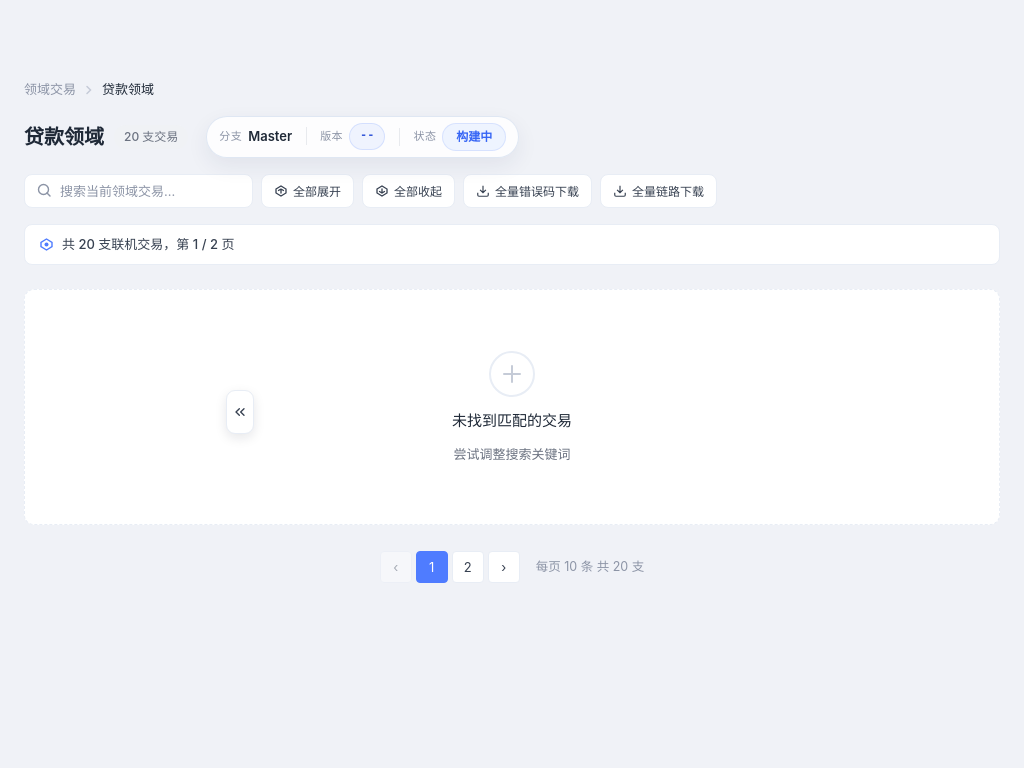
Test case: TransactionAnalysis domain chain export › shows other backend errors in the export dialog
Step 1. Click the button with test id "export-domain-chains" → (658, 190), box [600, 174, 717, 208]
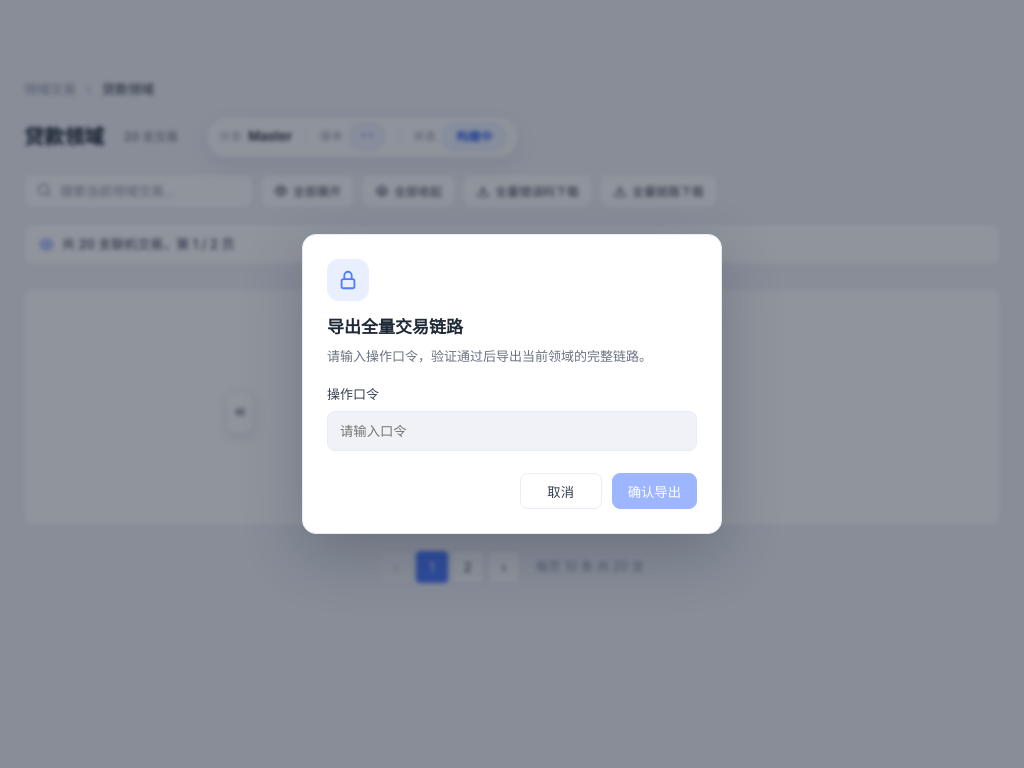
Step 2. Type "secret" into the password field with test id "chain-export-token" → (512, 431), box [327, 411, 697, 451]
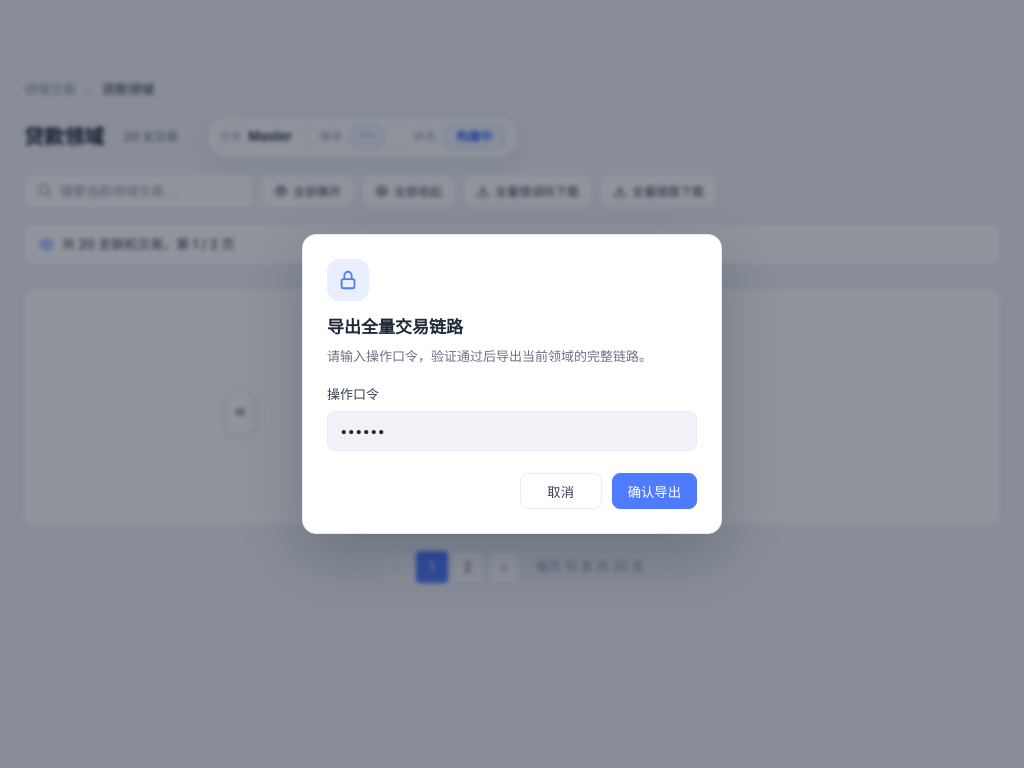
Step 3. Click the button with test id "confirm-chain-export" → (654, 491), box [612, 473, 697, 509]
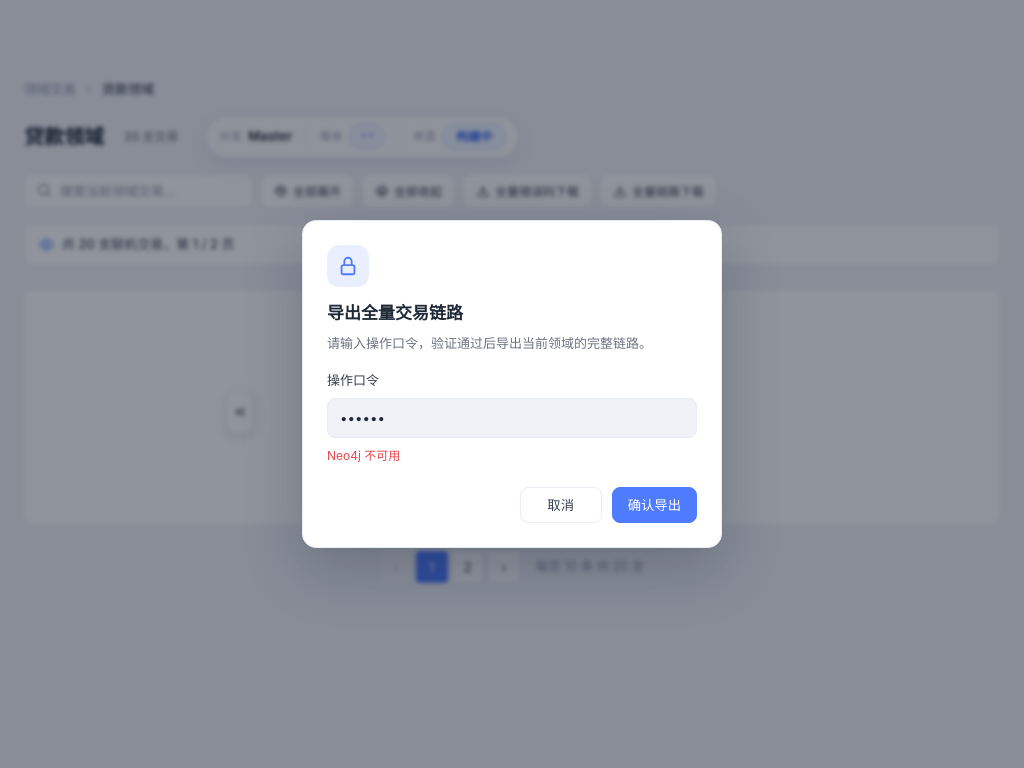
Check: the message with test id "chain-export-dialog-error" reads "Neo4j 不可用", box [327, 448, 400, 463]
